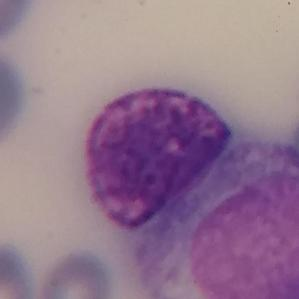Basophil: (72, 73, 240, 246)
Monocyte: (127, 138, 299, 297)
RBC: (34, 246, 115, 299), (0, 45, 31, 153), (0, 240, 39, 298), (0, 0, 38, 44)
